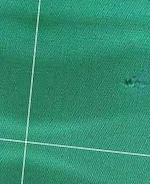knot: (121, 70, 144, 91)
